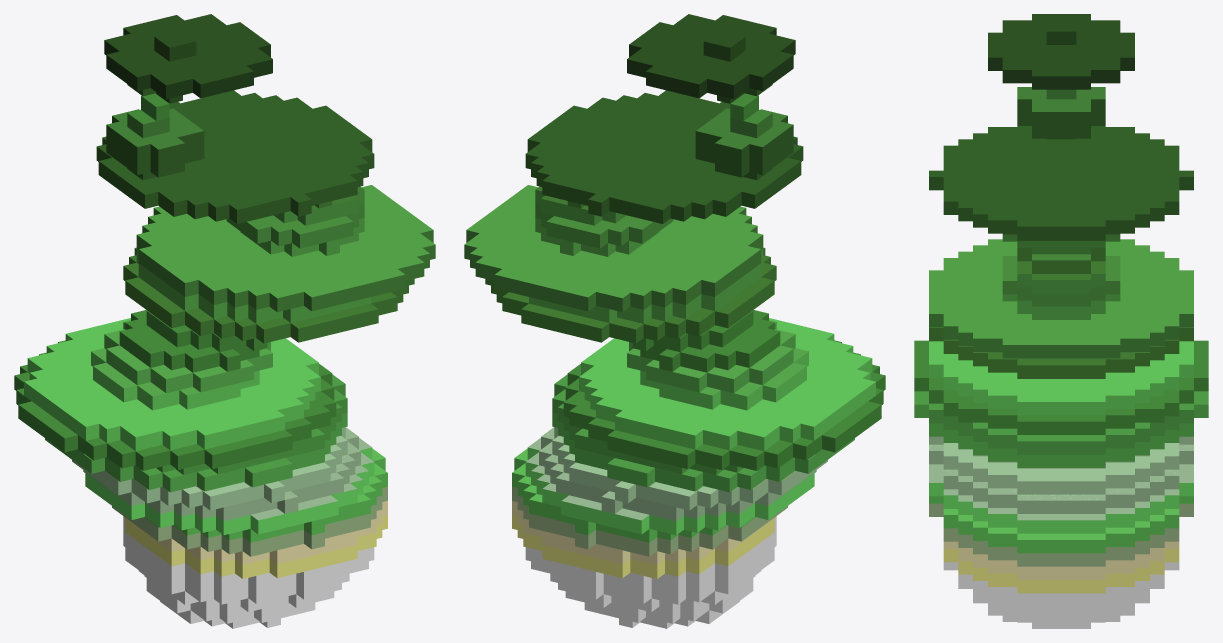
File: SMGTB0_flame.obj
The picture shows the model from 3 angles, left to right: view 1: azimuth 30°, elevation 25°; view 2: azimuth 150°, elevation 25°; view 3: azimuth 270°, elevation 25°; orthographic projection. The views are drawn at different scales.
Parts seen in each view (by area): view 1: TorchFlame; view 2: TorchFlame; view 3: TorchFlame.
Part boxes in pixels (x1,y1,x2,y2): TorchFlame: (14,14,435,628); TorchFlame: (464,14,885,628); TorchFlame: (914,14,1208,628).
Bounding box in the file's own units: 0.6136 × 0.9318 × 0.4545.
Materials: 1 (1 with a texture image).
